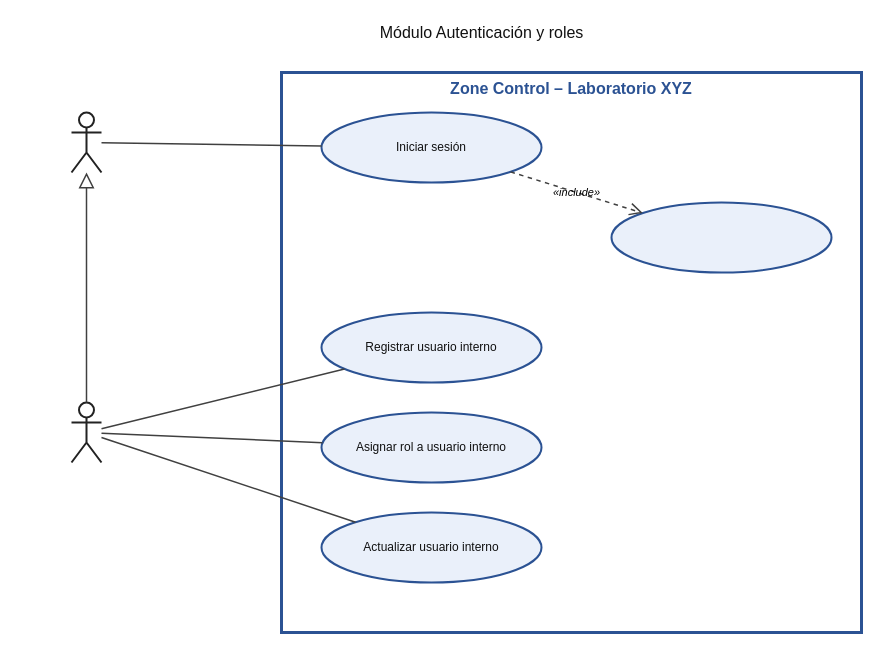
Some shapes in this 880 by 651 pixel diagram are drawn without their labels. The shapes that lost their labels are listed below. From the top down, each one's centre as x and y in pixels, then its label:
At (86,142): "Usuario interno".
At (721,237): "Validar permisos según el rol".
At (86,432): "Administrador del sistema".
